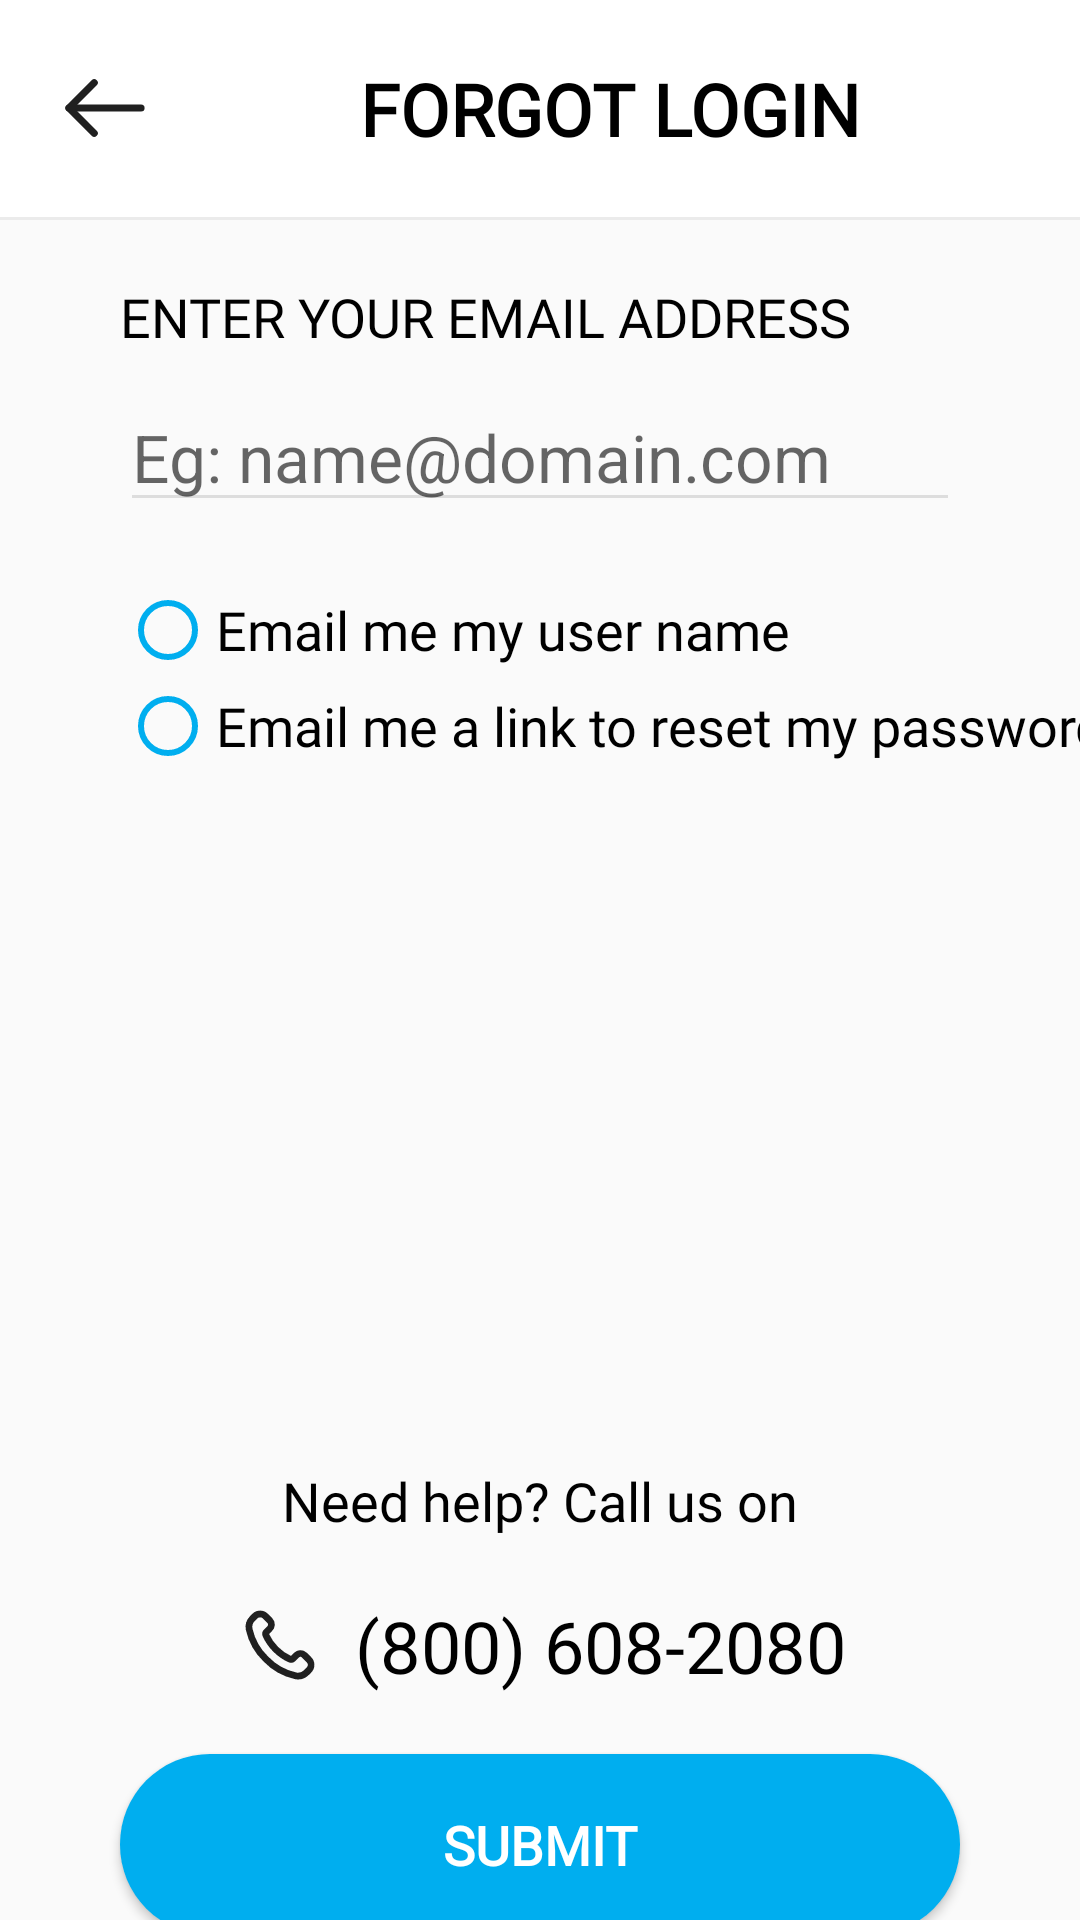

Icons on this 1080*1920 Android screen, each with the point to tap as (x,y):
backarrow: (105,108)
